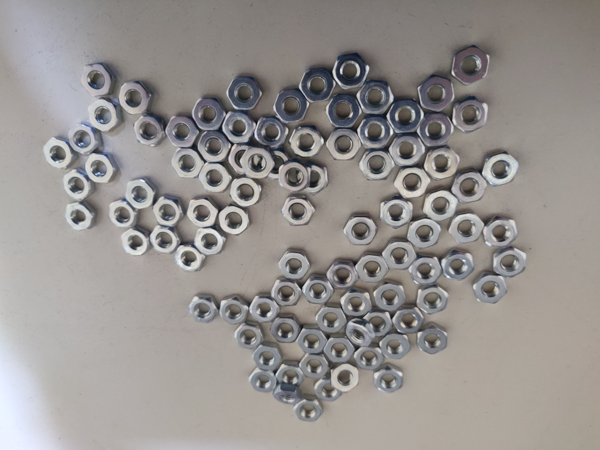nut: (450, 46, 490, 86), (416, 107, 456, 147), (117, 77, 155, 115), (417, 71, 454, 110), (332, 52, 369, 91), (355, 116, 395, 152), (196, 127, 232, 166), (453, 95, 489, 133), (483, 149, 519, 187), (423, 146, 461, 181), (386, 98, 423, 133), (83, 151, 120, 186), (449, 172, 489, 204), (301, 67, 336, 103), (163, 112, 198, 148), (395, 167, 432, 201), (361, 78, 395, 114), (79, 63, 115, 97), (421, 190, 459, 222), (241, 145, 276, 179), (343, 214, 379, 247), (62, 201, 99, 233), (357, 151, 396, 181), (281, 193, 315, 227), (373, 279, 408, 312), (228, 77, 264, 109), (193, 97, 225, 133), (278, 161, 313, 193), (329, 361, 361, 396), (390, 137, 426, 168), (66, 124, 102, 155), (278, 250, 314, 281), (133, 115, 166, 148), (88, 101, 122, 133), (222, 112, 257, 143), (406, 219, 441, 250), (42, 139, 77, 170), (326, 96, 362, 126), (227, 177, 263, 207), (484, 215, 517, 247), (326, 259, 359, 291), (472, 275, 507, 305), (313, 305, 348, 335), (376, 333, 411, 363), (275, 88, 307, 120), (125, 177, 156, 210), (341, 287, 372, 320), (379, 199, 413, 229), (449, 214, 483, 244), (60, 171, 94, 201), (218, 207, 253, 236), (193, 227, 228, 256), (492, 249, 528, 277), (173, 243, 205, 274), (384, 239, 417, 269), (269, 313, 302, 343), (271, 279, 305, 308), (289, 126, 324, 154), (186, 199, 221, 227), (354, 254, 389, 282), (328, 130, 359, 161), (408, 257, 443, 284), (419, 324, 449, 355), (188, 294, 219, 324), (299, 350, 330, 380), (151, 197, 183, 226), (446, 250, 475, 282), (256, 118, 289, 146), (199, 164, 230, 193), (394, 306, 425, 335), (226, 145, 258, 173), (250, 346, 284, 372), (297, 163, 327, 192), (219, 294, 249, 323), (313, 376, 343, 405), (172, 150, 203, 178), (235, 323, 266, 351), (344, 320, 375, 348), (107, 201, 139, 228), (417, 287, 449, 314), (290, 398, 323, 424), (263, 149, 293, 177), (298, 328, 328, 356), (322, 339, 354, 365), (358, 312, 391, 337), (353, 346, 384, 372), (373, 369, 406, 393), (274, 361, 302, 389), (247, 298, 279, 322), (303, 279, 332, 305), (120, 231, 147, 258), (248, 371, 275, 395), (148, 232, 177, 254)
